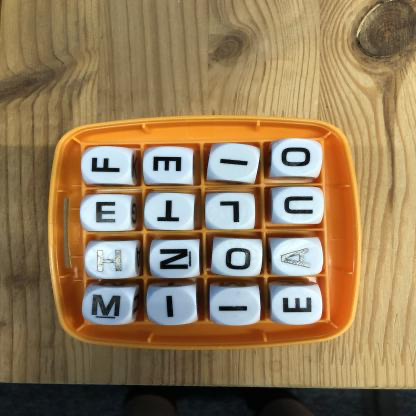a: (271, 239, 323, 276)
e: (272, 286, 323, 326), (80, 195, 133, 233), (144, 147, 193, 184)
f: (84, 147, 132, 184)
h: (85, 242, 137, 279)
i: (210, 288, 261, 325), (210, 145, 260, 182), (148, 288, 197, 324)
l: (205, 193, 257, 230)
m: (85, 286, 135, 324)
n: (150, 239, 202, 278)
o: (214, 238, 263, 276), (274, 139, 323, 176)
t: (146, 194, 195, 231)
u: (272, 188, 324, 225)
